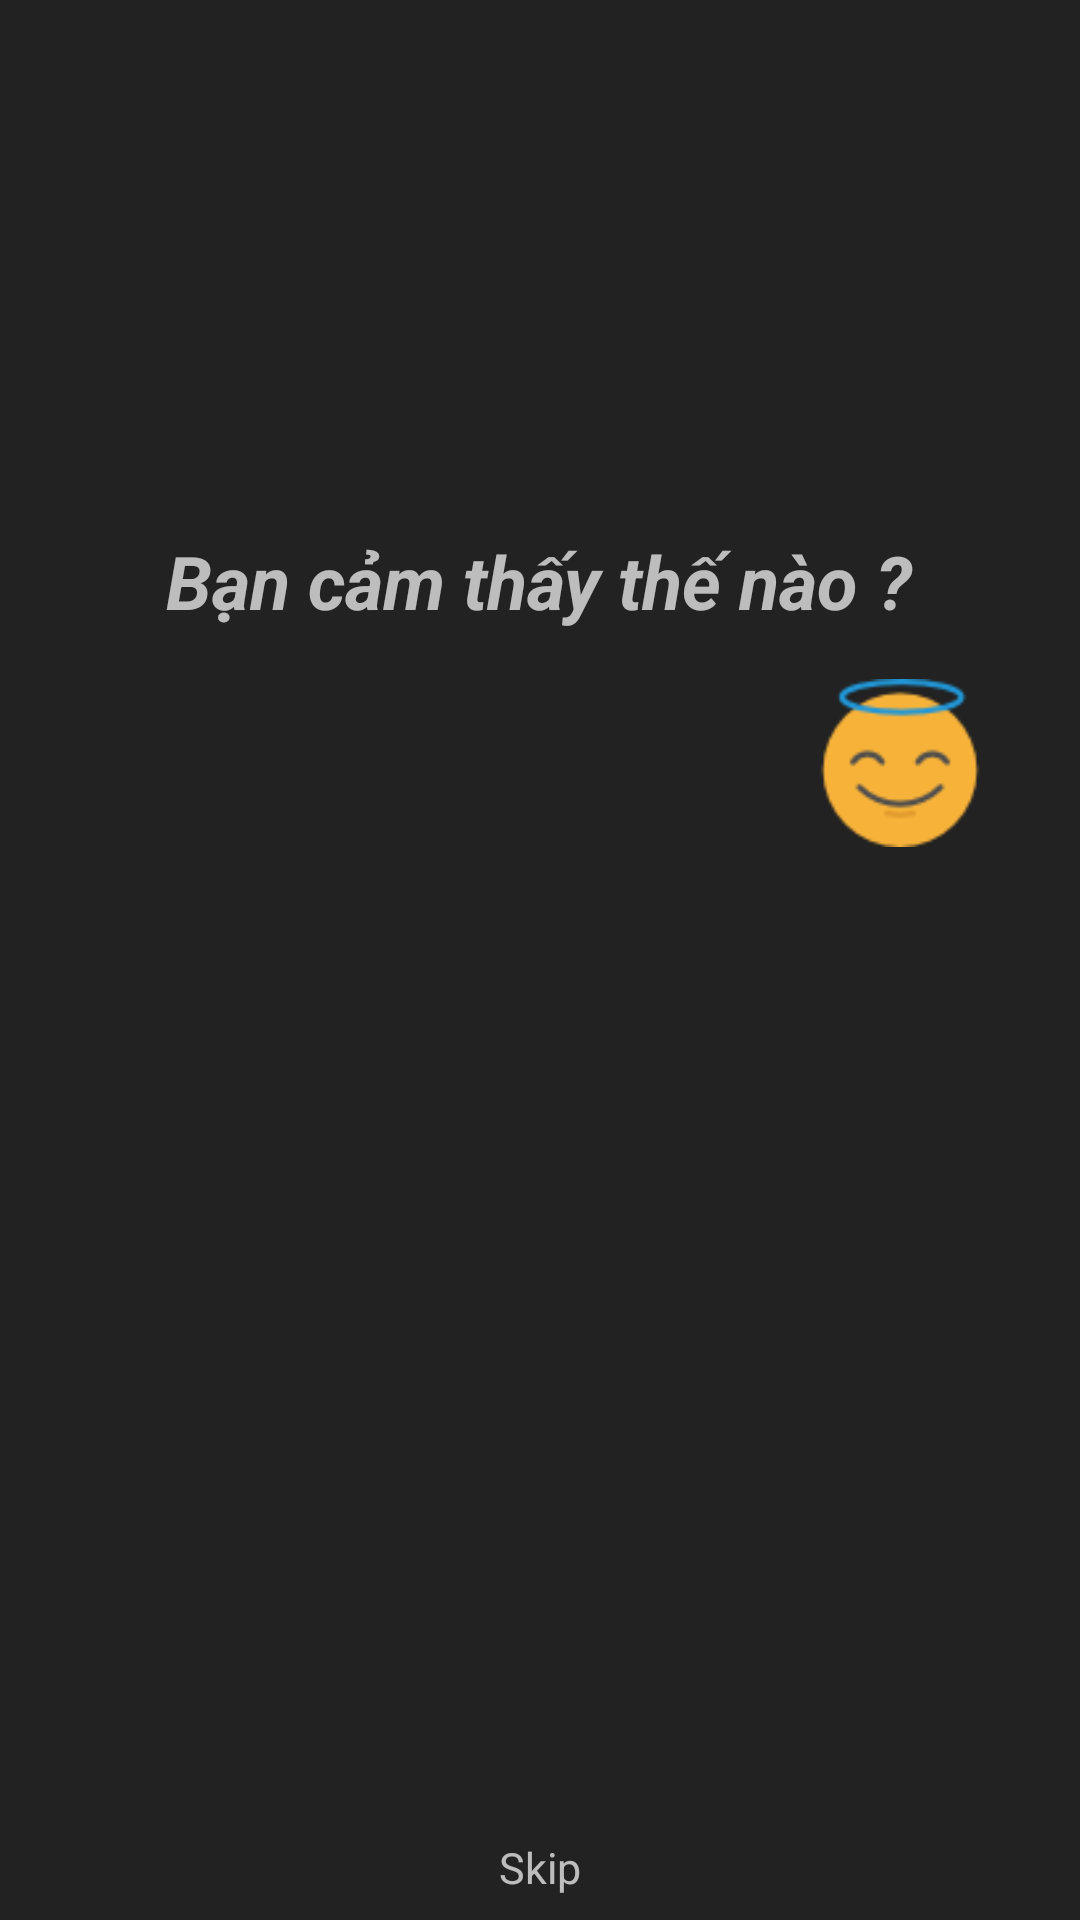

Icon bounding boxes for this 1080 × 1920 phone screenshot, format (x1, y1, x2, y2):
angel: (821, 679, 979, 847)
